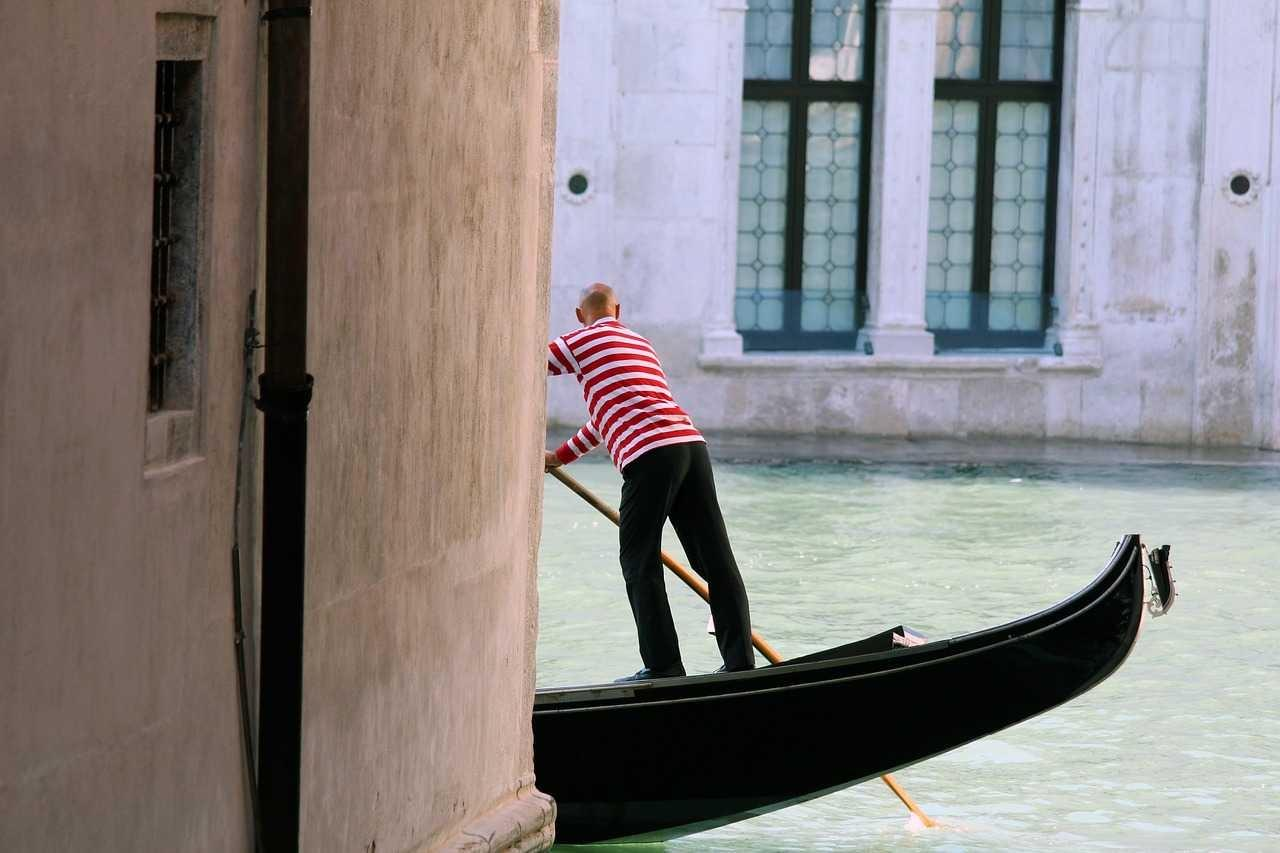kayak: (534, 533, 1170, 846)
